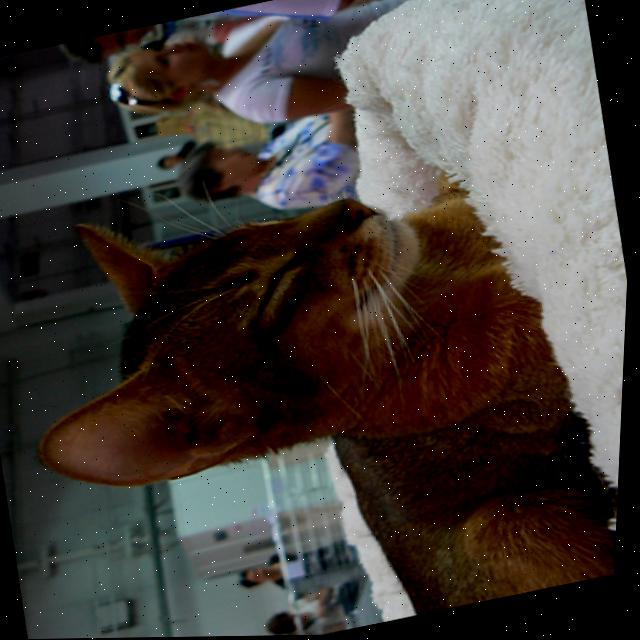Abyssinian: (0, 118, 636, 640)
